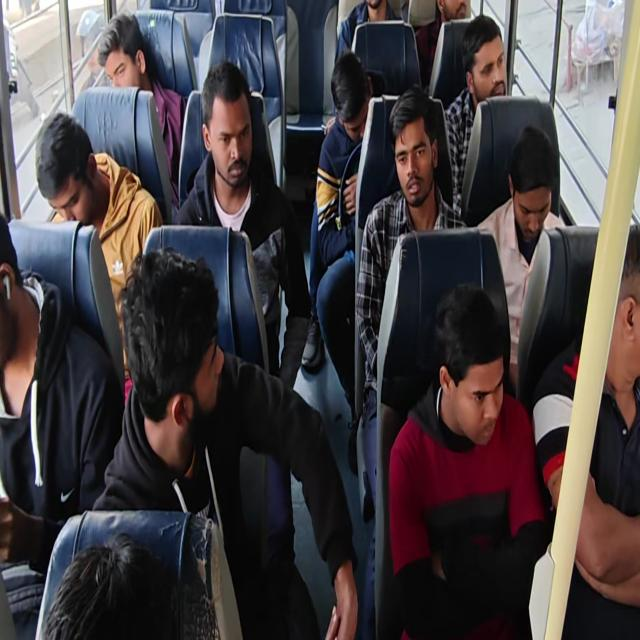person: (122, 254, 225, 434), (40, 532, 192, 640), (434, 276, 509, 454), (196, 54, 270, 205), (34, 97, 102, 241), (510, 125, 570, 252), (595, 238, 640, 400), (386, 96, 448, 208), (90, 7, 149, 96), (323, 53, 375, 152), (463, 13, 512, 114), (0, 199, 25, 349), (358, 0, 394, 25), (430, 0, 476, 19)
